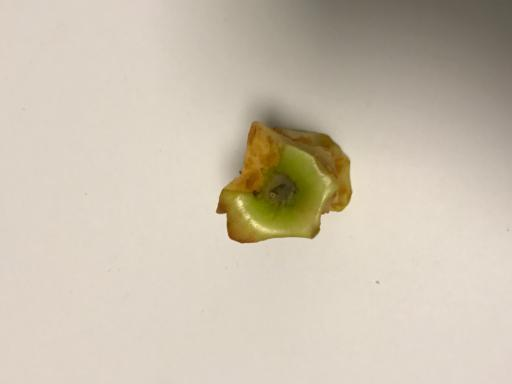trash: (215, 121, 353, 245)
